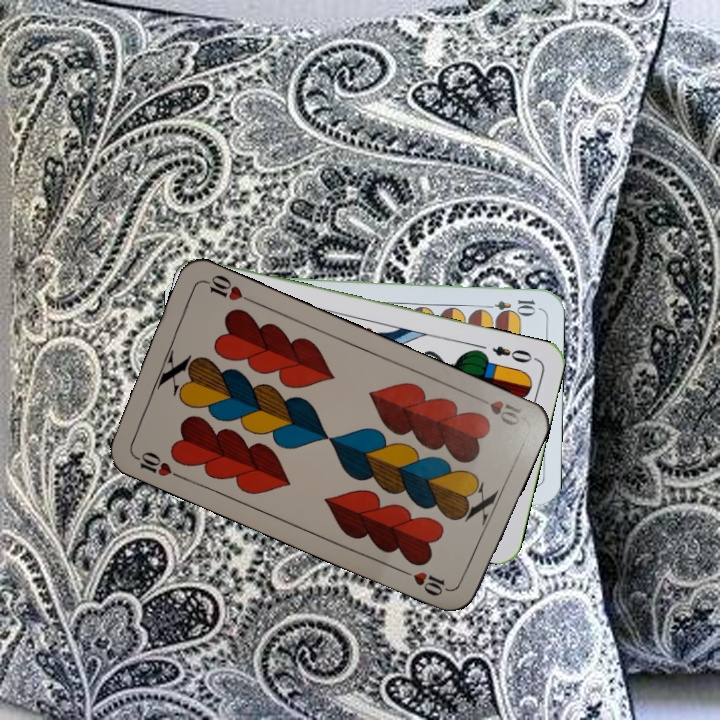E10: (479, 296, 538, 314)
EO: (488, 341, 535, 366)
H10: (470, 391, 524, 429), (128, 447, 184, 481)
